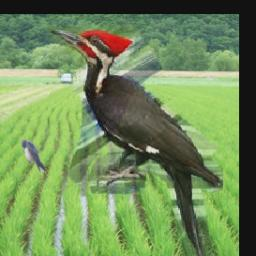Swallow: (22, 141, 46, 176)
Woodpecker: (47, 26, 223, 256)
